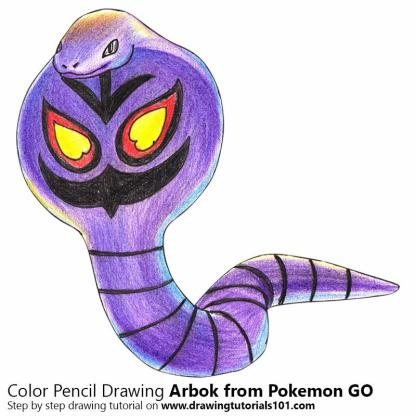Arbok: (15, 8, 403, 379)
